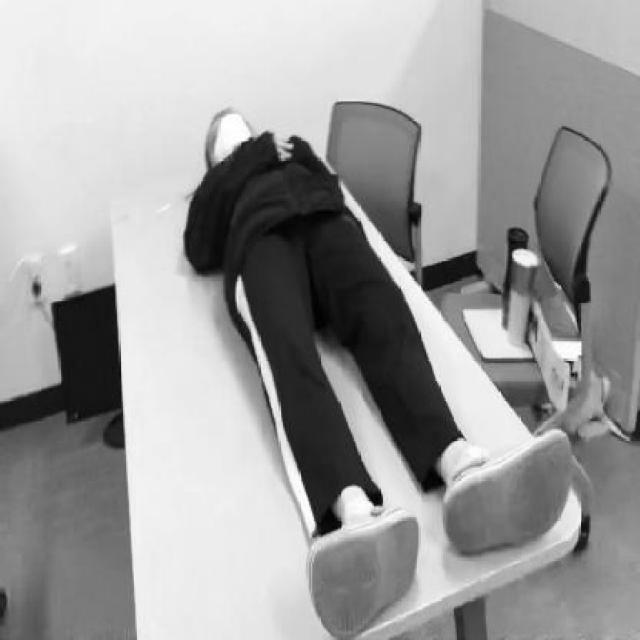person: (186, 99, 572, 601)
